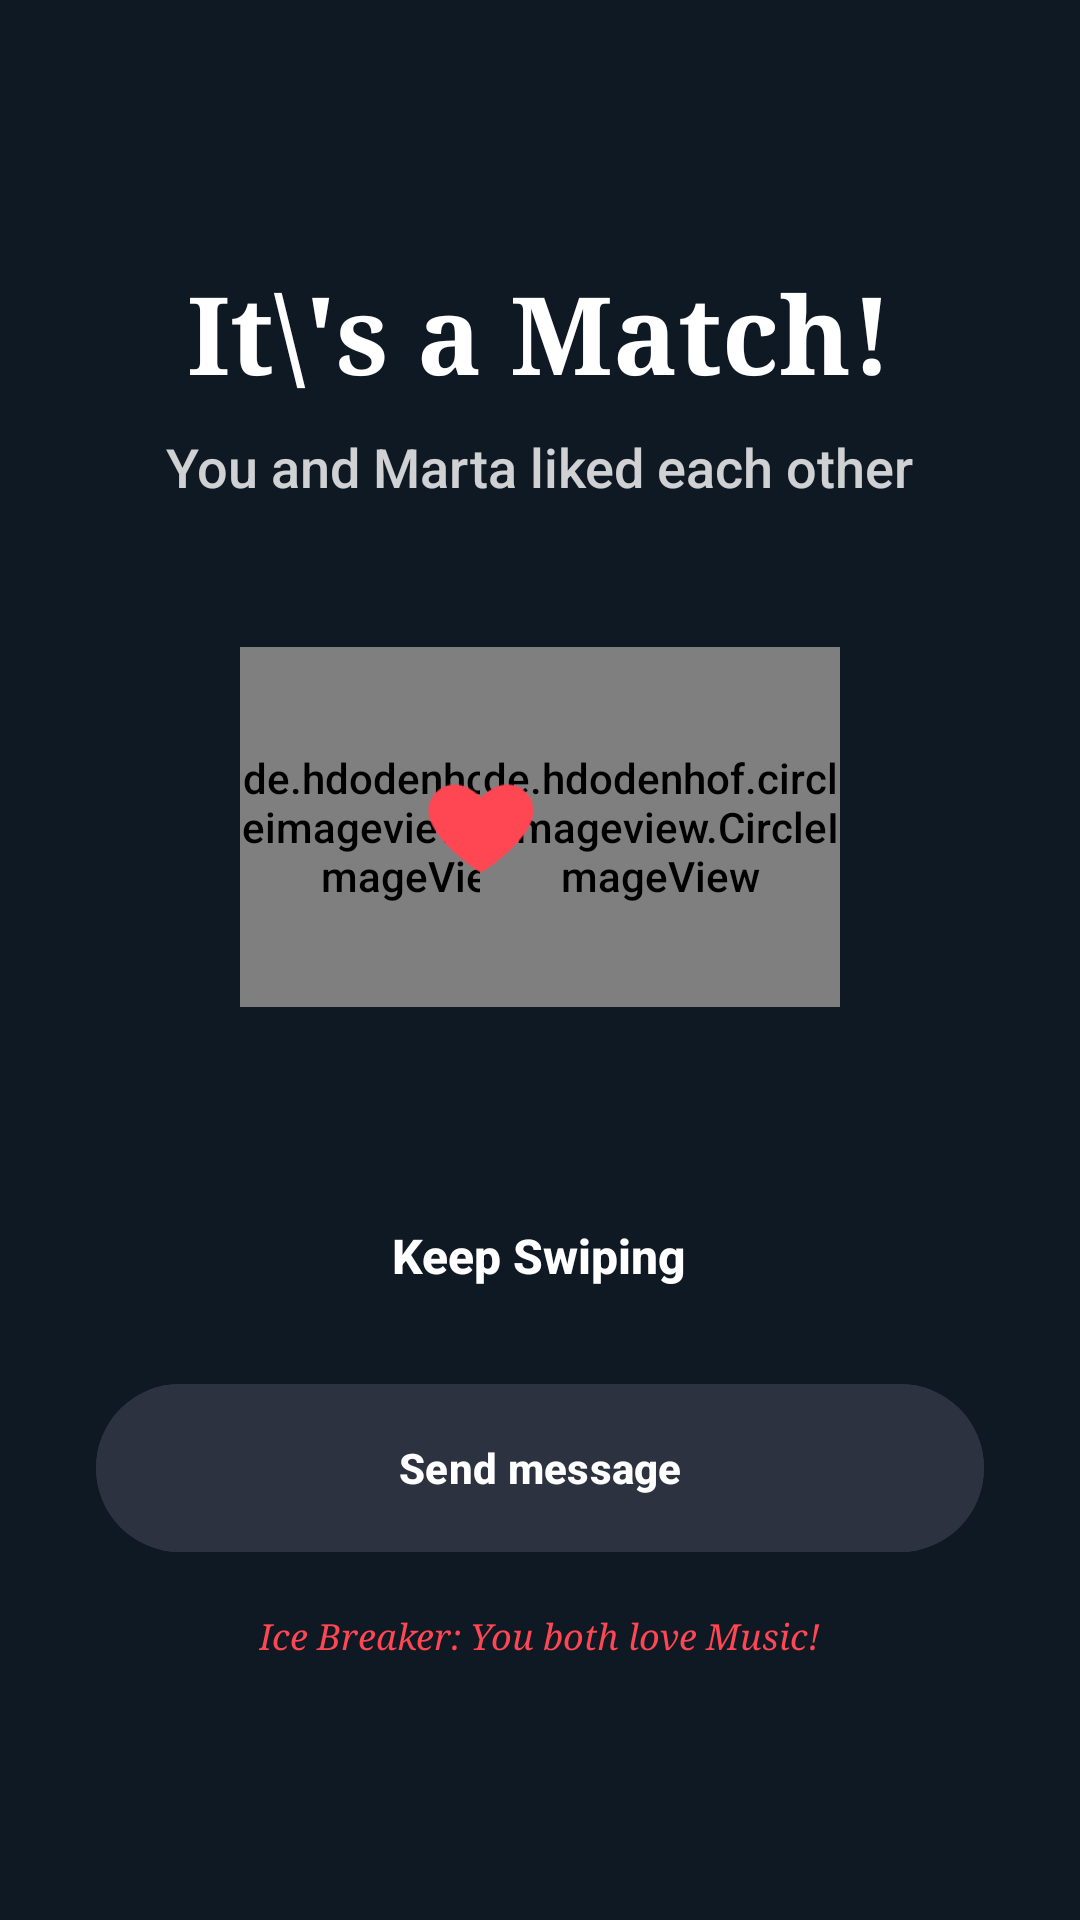

Screen size 1080px x 1920px. Icon name, then its center in pixels as point (x, y):
love: point (481, 827)
